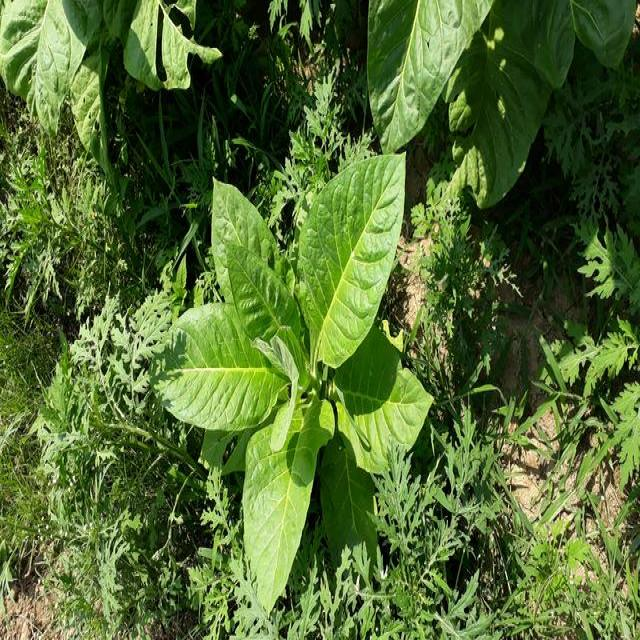crop: (172, 167, 434, 603)
